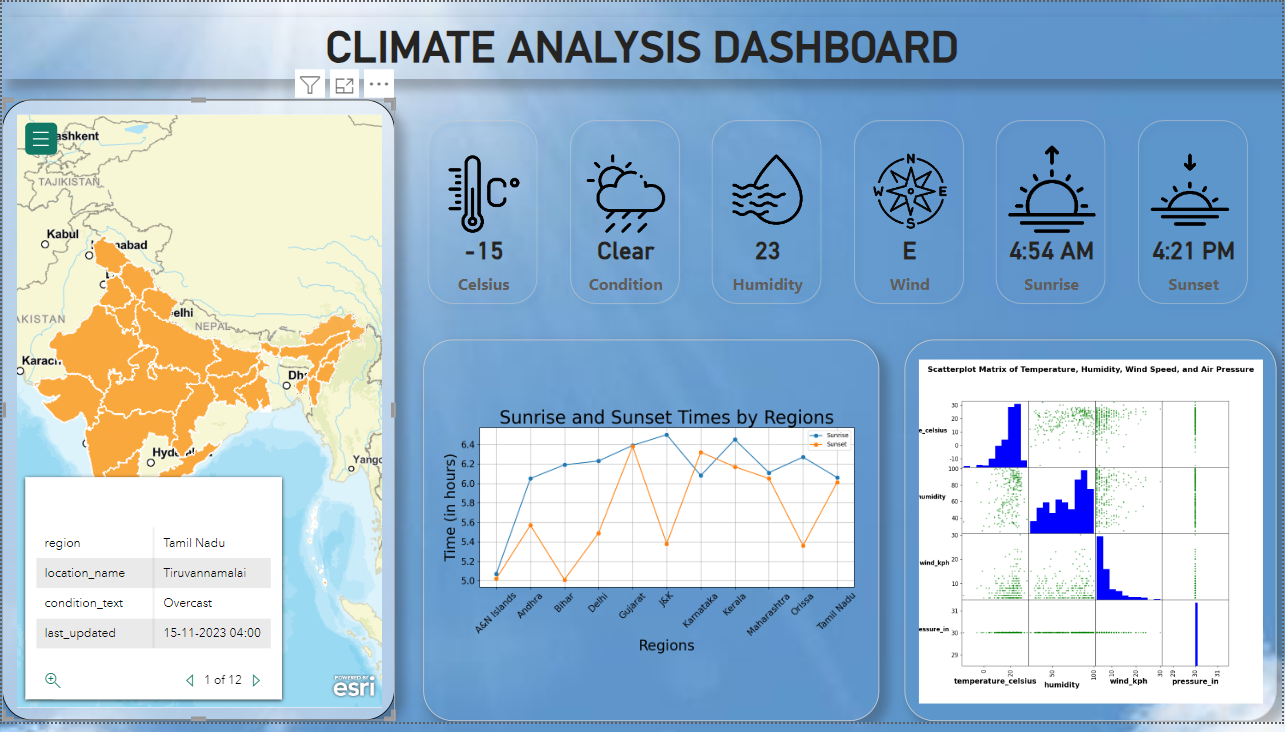

Layout of this report page (visuals, bound fields, positions):
{"tool":"powerbi","page":{"name":"Page 1","canvas":[1280,720],"ordinal":0},"visuals":[{"type":"textbox","box":[0,14.7,1280.3,62.4],"z":0},{"type":"esriVisual","fields":{"Location":["weatherdata.region"],"JoinField":["weatherdata.region","weatherdata.location_name"],"Color":["weatherdata.last_updated_epoch"]},"box":[0,97.8,392.5,621.2],"z":1000},{"type":"cardVisual","fields":{"Data":["Min(weatherdata.temperature_celsius)","Min(weatherdata.condition_text)","Min(weatherdata.humidity)","Min(weatherdata.wind_direction)","Min(weatherdata.sunrise)","Min(weatherdata.sunset)"]},"box":[408.8,101.2,856.5,218],"z":2000},{"type":"pythonVisual","box":[1492.6,319.8,446.3,399.2],"z":5000},{"type":"pythonVisual","fields":{"Values":["weatherdata.region","weatherdata.sunrise","weatherdata.sunset","FinalWeatherData2.sunrise","FinalWeatherData2.sunset","FinalWeatherData2.region"]},"box":[421.5,337.2,456.2,381.8],"z":6000},{"type":"pythonVisual","fields":{"Values":["weatherdata.humidity","weatherdata.temperature_celsius","weatherdata.wind_kph","weatherdata.pressure_in"]},"box":[895.1,337.2,371.9,381.8],"z":7000}]}

Visuals, with their boxes in screenshot pixels (x1, y1, x2, y2), scaled from the page's 1280x720 canvas onto the 1285x732 screenshot:
textbox: [0,15,1284,78]
esriVisual - weatherdata.region x weatherdata.region: [0,99,394,731]
cardVisual - Min(weatherdata.temperature_celsius) x Min(weatherdata.condition_text): [410,103,1270,325]
pythonVisual - weatherdata.region x weatherdata.sunrise: [423,343,881,731]
pythonVisual - weatherdata.humidity x weatherdata.temperature_celsius: [899,343,1272,731]
